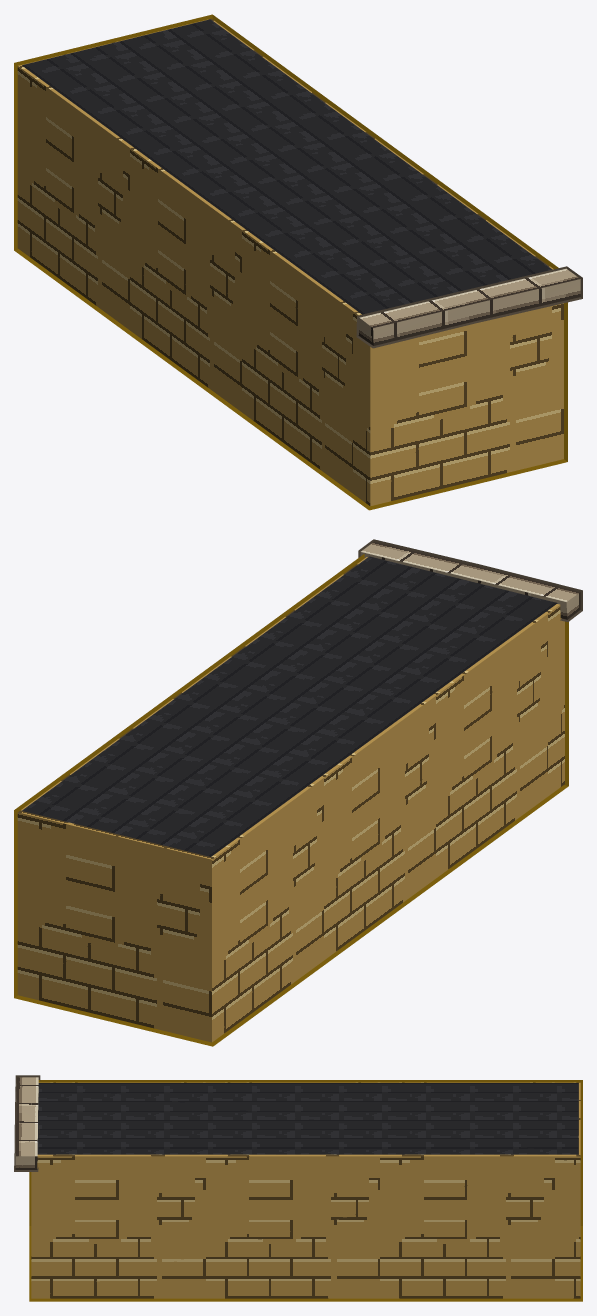
The model's file is Block_1.glb.
The picture shows the model from 3 angles, top to bottom: view 1: azimuth 30°, elevation 25°; view 2: azimuth 150°, elevation 25°; view 3: azimuth 270°, elevation 25°; orthographic projection. The views are drawn at different scales.
Parts seen in each view (by area): view 1: Block_1; view 2: Block_1; view 3: Block_1.
Boxes of the visible parts, bbox=[...] form: Block_1: bbox=[14, 14, 582, 510]; Block_1: bbox=[14, 539, 582, 1046]; Block_1: bbox=[14, 1075, 582, 1301].
Size of the model in its own units: 4.34 by 3.76 by 13.05.
5 materials, 3 textured.
